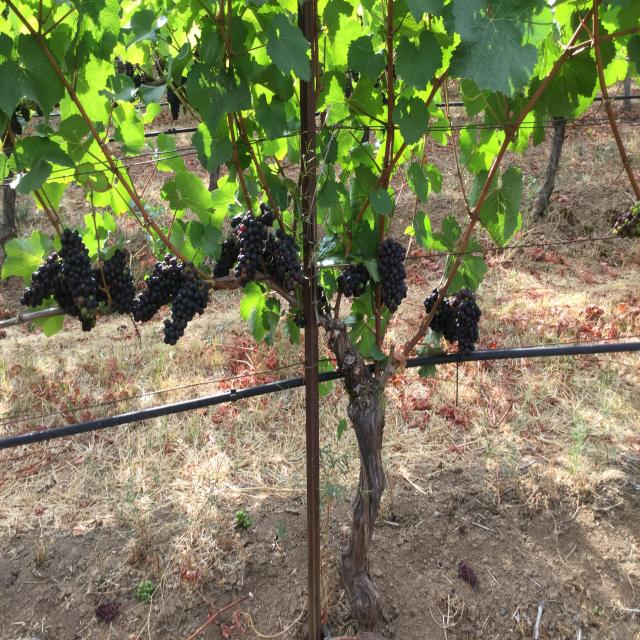grapes: (214, 203, 276, 287), (59, 228, 99, 332), (20, 253, 78, 317), (164, 265, 209, 345), (430, 288, 481, 355), (134, 253, 181, 322), (264, 228, 302, 292), (378, 238, 408, 313), (102, 248, 135, 315), (336, 263, 370, 297), (424, 288, 439, 313)
